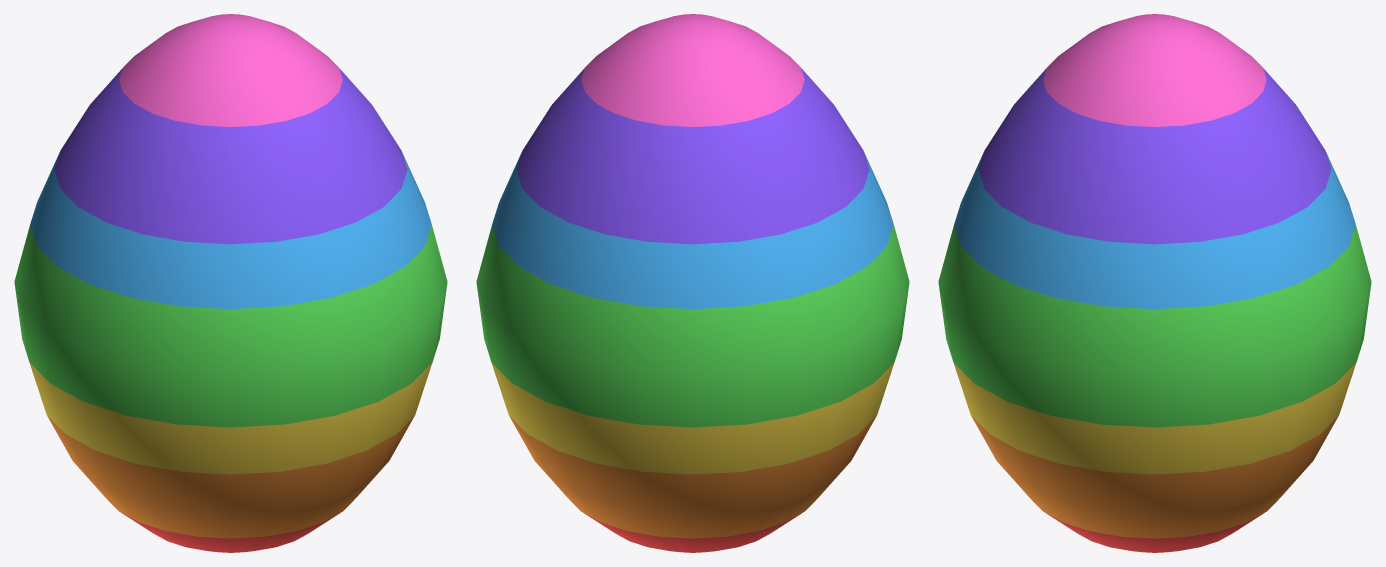
File: Rainbow.glb
3 views of the same model, side by side, from view 1: azimuth 30°, elevation 25°; view 2: azimuth 150°, elevation 25°; view 3: azimuth 270°, elevation 25° (orthographic).
Parts seen in each view (by area): view 1: Rainbow; view 2: Rainbow; view 3: Rainbow.
Boxes of the visible parts, left/top/right/bottom form: Rainbow: left=14, top=14, right=447, bottom=552; Rainbow: left=476, top=14, right=909, bottom=552; Rainbow: left=938, top=14, right=1371, bottom=552.
Bounding box in the file's own units: 3.04 × 4 × 3.04.
Materials: 1 (1 with a texture image).
